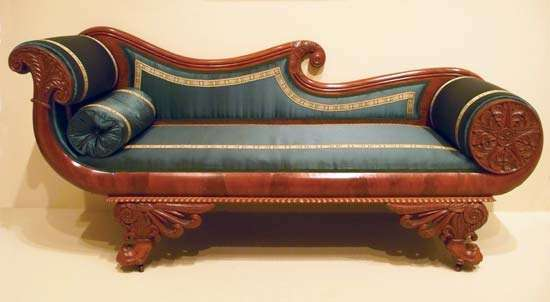chairs: (7, 23, 542, 274)
